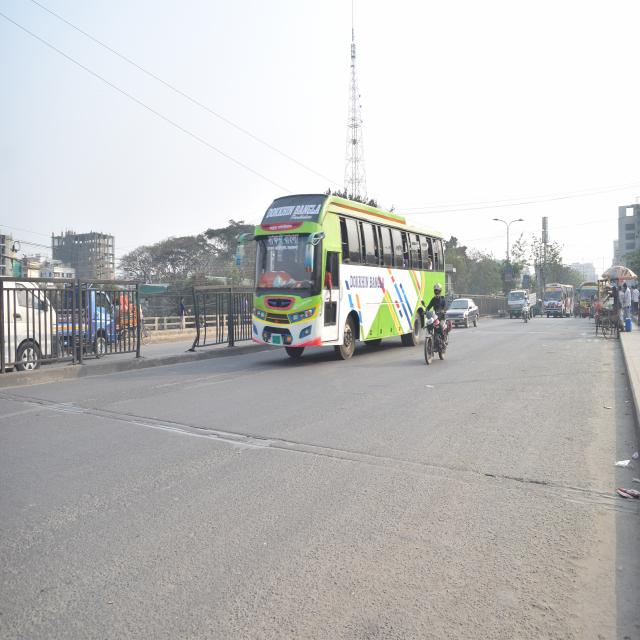bus: (233, 188, 424, 370), (542, 281, 575, 323), (578, 281, 600, 318)
car: (445, 293, 482, 334)
motorbike: (414, 294, 450, 376), (519, 298, 532, 328)
pickup-van: (507, 284, 538, 321)
